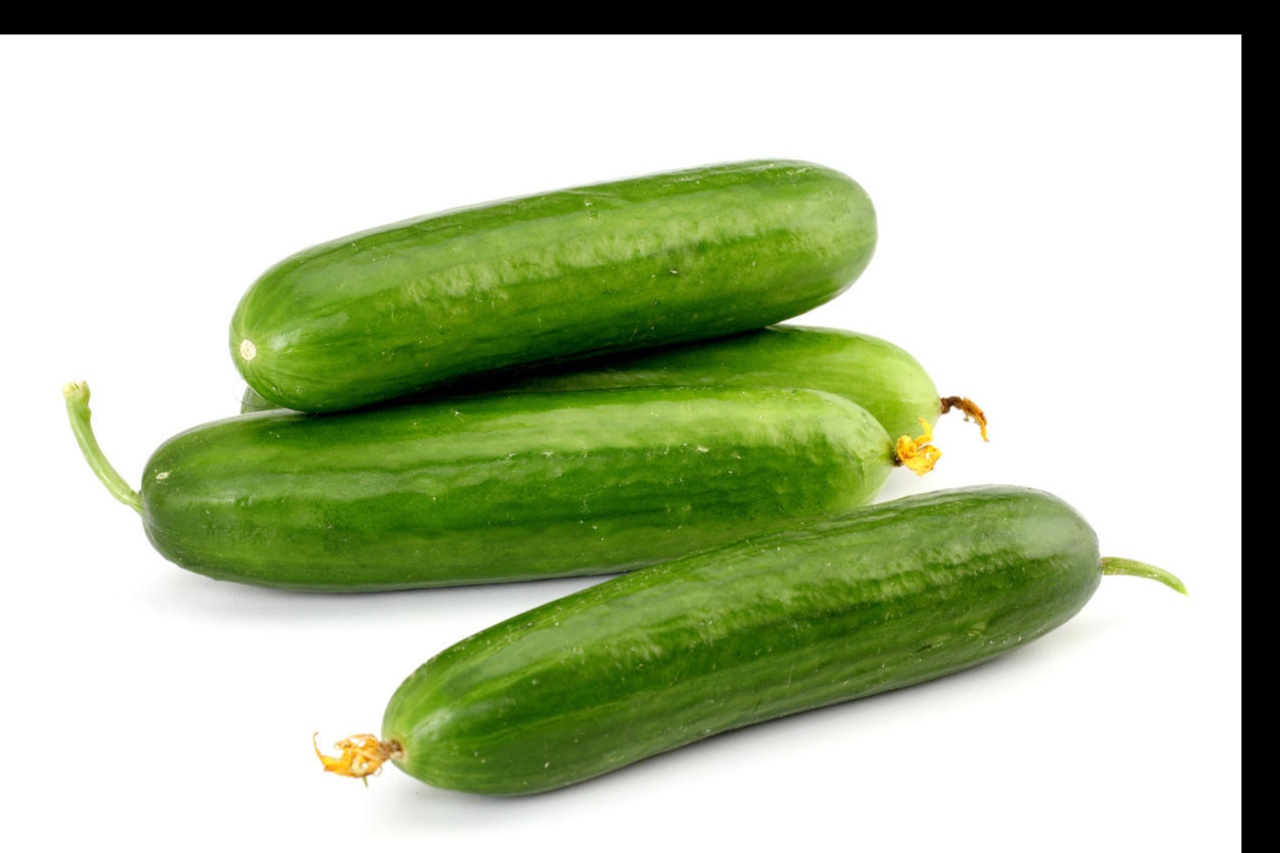cucumber: (381, 507, 1100, 775), (127, 371, 905, 590), (226, 181, 872, 410)
